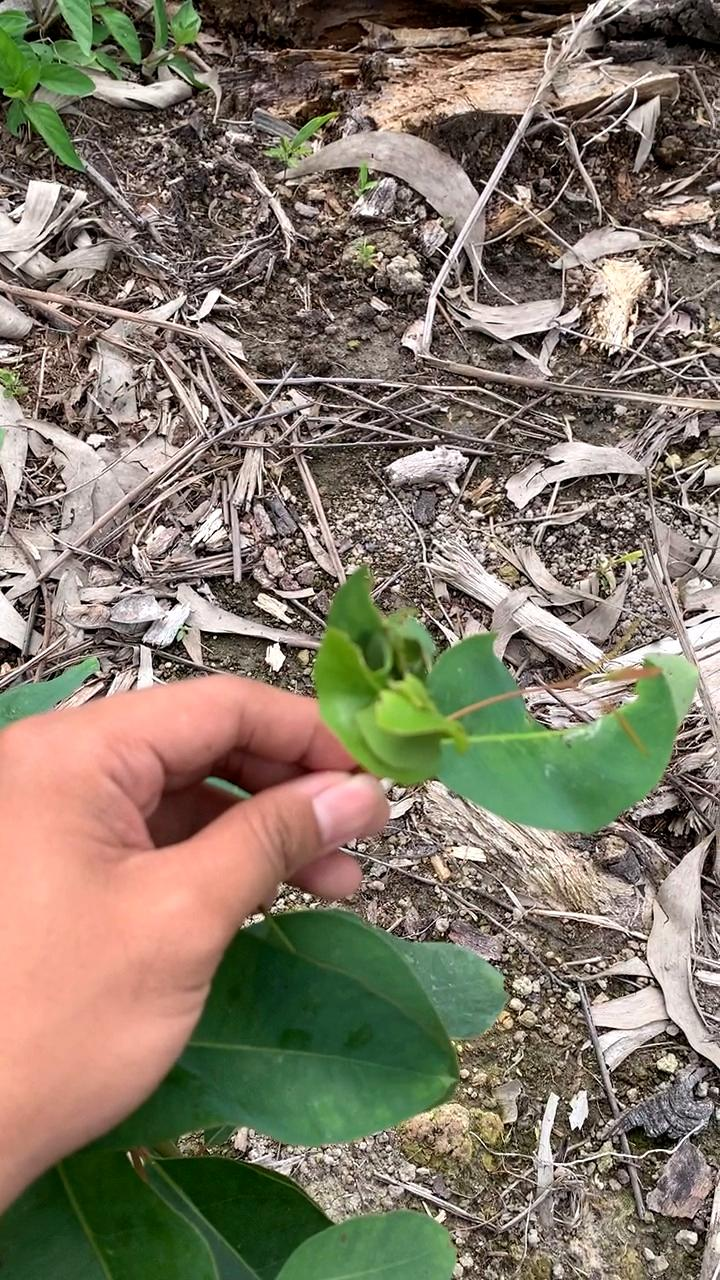Leaf Roller - Leaf: (321, 578, 693, 837)
